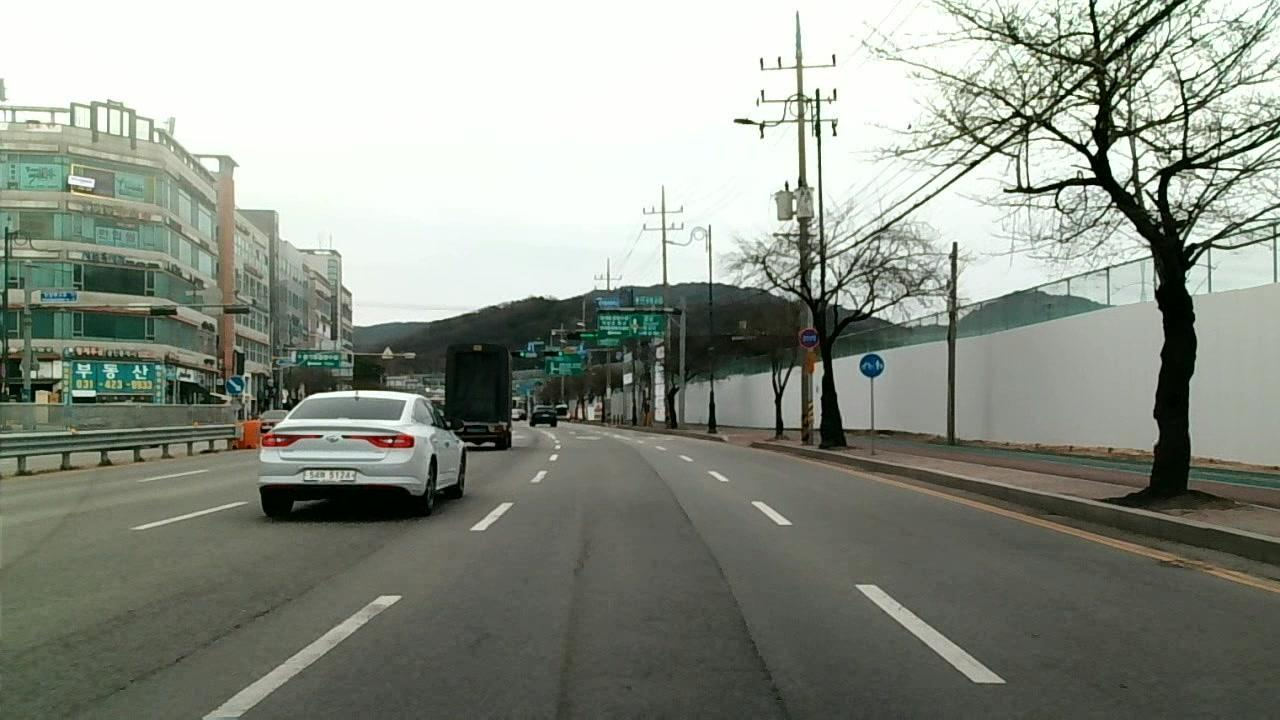banner: (68, 600, 275, 720), (715, 561, 799, 720)
